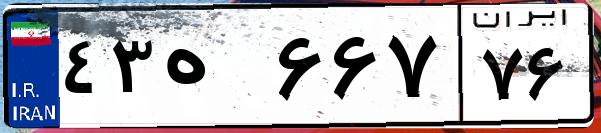3: (110, 28, 158, 98)
4: (57, 26, 110, 100)
6: (270, 28, 330, 110), (330, 28, 385, 110), (525, 38, 570, 115)
7: (385, 28, 445, 110), (475, 38, 525, 113)
ه: (158, 20, 270, 120)
